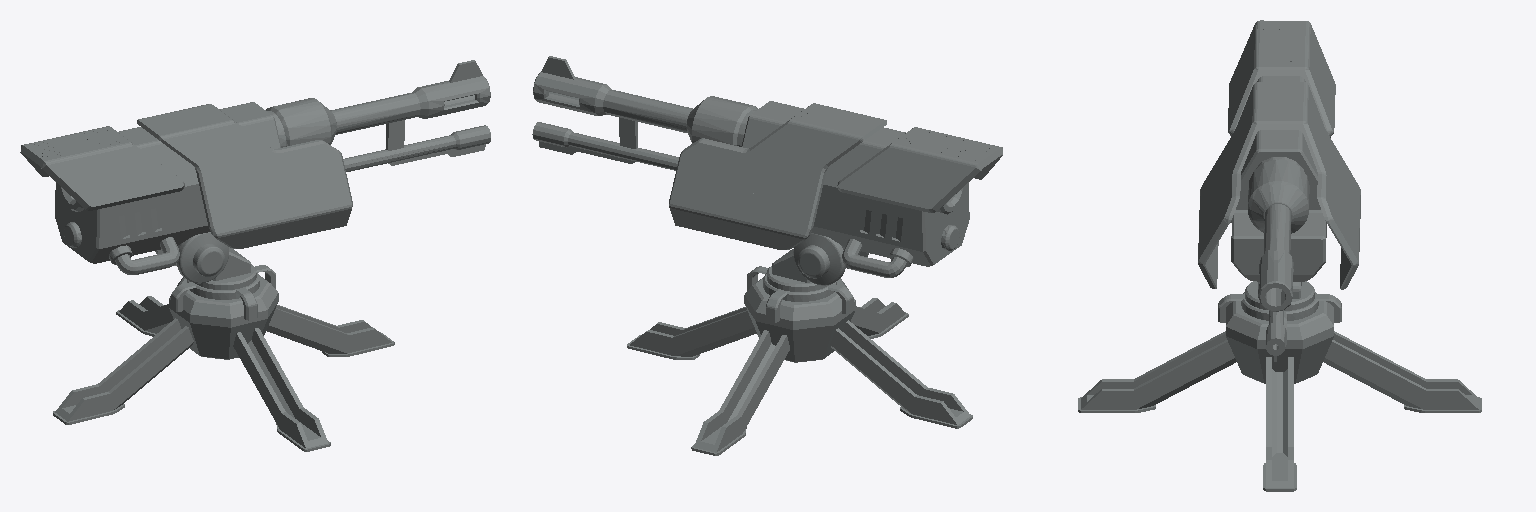
robot.urdf — turret_description:
<?xml version="1.0" encoding="utf-8"?>
<!-- This URDF was automatically created by SolidWorks to URDF Exporter! Originally created by [author] ([email redacted]) 
     Commit Version: 1.6.0-1-g15f4949  Build Version: 1.6.7594.29634
     For more information, please see http://wiki.ros.org/sw_urdf_exporter -->
<robot
  name="turret_description">
  <link
    name="base_link">
    <inertial>
      <origin
        xyz="-0.059907 1.301E-17 0.022839"
        rpy="0 0 0" />
      <mass
        value="0.28603" />
      <inertia
        ixx="0.00013769"
        ixy="-5.3945E-19"
        ixz="-3.2506E-21"
        iyy="0.00013769"
        iyz="5.6125E-20"
        izz="0.00022916" />
    </inertial>
    <visual>
      <origin
        xyz="0 0 0"
        rpy="0 0 0" />
      <geometry>
        <mesh
          filename="package://turret_description/meshes/base_link.STL" />
      </geometry>
      <material
        name="">
        <color
          rgba="0.52941 0.54902 0.54902 1" />
      </material>
    </visual>
    <collision>
      <origin
        xyz="0 0 0"
        rpy="0 0 0" />
      <geometry>
        <mesh
          filename="package://turret_description/meshes/base_link.STL" />
      </geometry>
    </collision>
  </link>
  <link
    name="Horizontal_Link">
    <inertial>
      <origin
        xyz="-0.0013345 1.7795E-05 0.0067059"
        rpy="0 0 0" />
      <mass
        value="0.059322" />
      <inertia
        ixx="4.4326E-06"
        ixy="5.8533E-09"
        ixz="8.3795E-07"
        iyy="4.8715E-06"
        iyz="-1.1174E-08"
        izz="3.5927E-06" />
    </inertial>
    <visual>
      <origin
        xyz="0 0 0"
        rpy="0 0 0" />
      <geometry>
        <mesh
          filename="package://turret_description/meshes/Horizontal_Link.STL" />
      </geometry>
      <material
        name="">
        <color
          rgba="0.52941 0.54902 0.54902 1" />
      </material>
    </visual>
    <collision>
      <origin
        xyz="0 0 0"
        rpy="0 0 0" />
      <geometry>
        <mesh
          filename="package://turret_description/meshes/Horizontal_Link.STL" />
      </geometry>
    </collision>
  </link>
  <joint
    name="Horizontal_Joint"
    type="continuous">
    <origin
      xyz="-0.059907 0 0.038897"
      rpy="0 0 0" />
    <parent
      link="base_link" />
    <child
      link="Horizontal_Link" />
    <axis
      xyz="0 0 1" />
    <limit
      effort="100"
      velocity="3.14" />
    <dynamics
      damping="0.1"
      friction="0.1" />
  </joint>
  <link
    name="Vertical_Link">
    <inertial>
      <origin
        xyz="0.013867 0.027537 -1.0361E-08"
        rpy="0 0 0" />
      <mass
        value="0.664" />
      <inertia
        ixx="0.00023872"
        ixy="5.5153E-05"
        ixz="-3.4476E-11"
        iyy="0.0011211"
        iyz="-5.0832E-12"
        izz="0.0011439" />
    </inertial>
    <visual>
      <origin
        xyz="0 0 0"
        rpy="0 0 0" />
      <geometry>
        <mesh
          filename="package://turret_description/meshes/Vertical_Link.STL" />
      </geometry>
      <material
        name="">
        <color
          rgba="0.52941 0.54902 0.54902 1" />
      </material>
    </visual>
    <collision>
      <origin
        xyz="0 0 0"
        rpy="0 0 0" />
      <geometry>
        <mesh
          filename="package://turret_description/meshes/Vertical_Link.STL" />
      </geometry>
    </collision>
  </link>
  <joint
    name="Vertical_Joint"
    type="revolute">
    <origin
      xyz="-0.014074 0.00018767 0.020525"
      rpy="1.5708 0 -0.013334" />
    <parent
      link="Horizontal_Link" />
    <child
      link="Vertical_Link" />
    <axis
      xyz="0 0 -1" />
    <limit
      lower="-0.262"
      upper="0.785"
      effort="100"
      velocity="3.14" />
    <dynamics
      damping="0.1"
      friction="0.1" />
  </joint>
</robot>

--- Render facts (derived) ---
3 views of the same robot in one strip: view 1: azimuth 30°, elevation 25°; view 2: azimuth 150°, elevation 25°; view 3: azimuth 270°, elevation 25° (orthographic).
Model turret_description with 3 links and 2 joints (1 revolute, 1 continuous), rooted at base_link, posed every joint at zero.
Visible links, largest first — view 1: Vertical_Link, base_link, Horizontal_Link; view 2: Vertical_Link, base_link, Horizontal_Link; view 3: Vertical_Link, base_link, Horizontal_Link.
Boxes of the visible links, bbox=[...] form: Vertical_Link: bbox=[20, 60, 490, 283]; base_link: bbox=[53, 265, 394, 451]; Horizontal_Link: bbox=[195, 247, 256, 289]; Vertical_Link: bbox=[532, 56, 1002, 285]; base_link: bbox=[627, 266, 972, 455]; Horizontal_Link: bbox=[767, 249, 828, 291]; Vertical_Link: bbox=[1198, 20, 1360, 361]; base_link: bbox=[1078, 292, 1481, 491]; Horizontal_Link: bbox=[1245, 281, 1314, 310].
Bounding box of the posed robot: 0.2012 × 0.1462 × 0.1152 m (x, y, z).
Meshes: 3 distinct files referenced, 3 mesh visuals loaded (3 binary STL).
